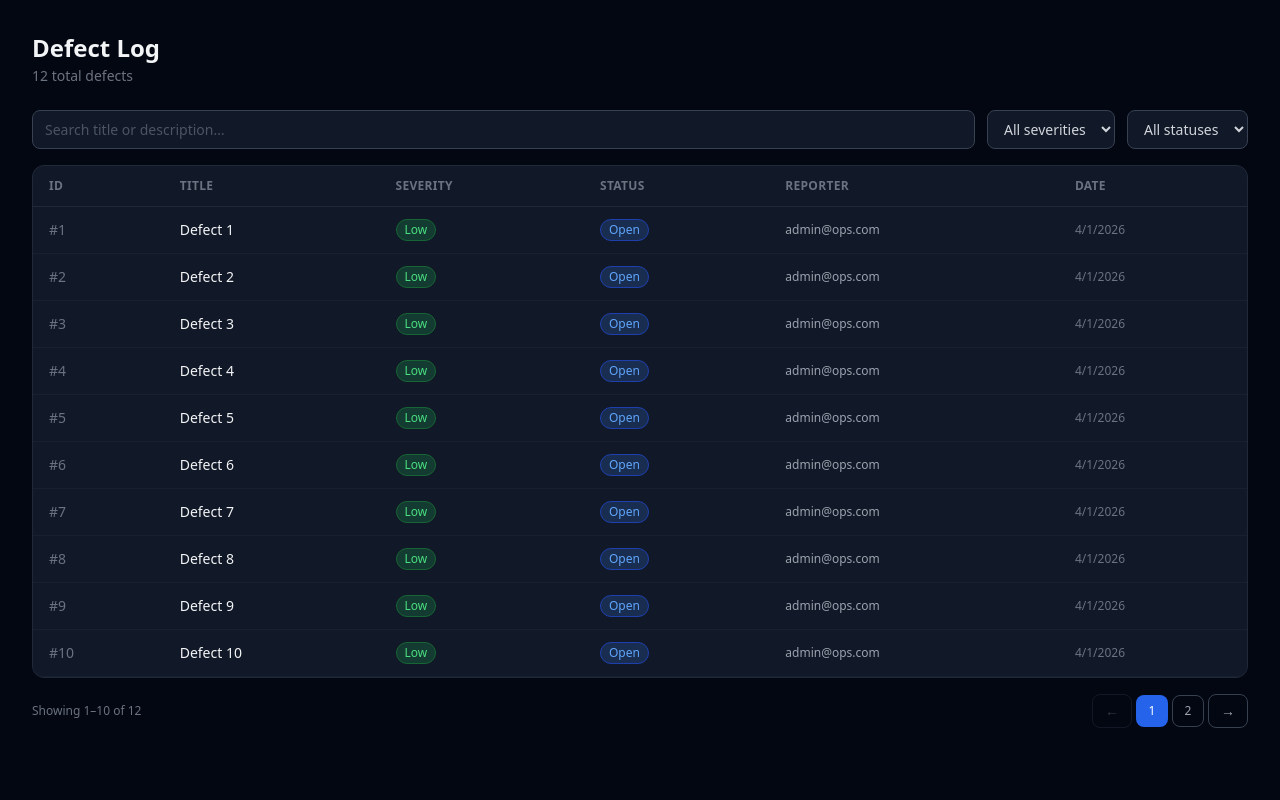
Test: DefectLog — pagination › resets to page 1 when a filter is applied
This screenshot has width=1280, height=800.
Expected: the text "Defect 1" is shown, [164,206,380,254]
Go to page 2 first
Click the button "→" at [1228, 711], box [1208,694,1248,728]
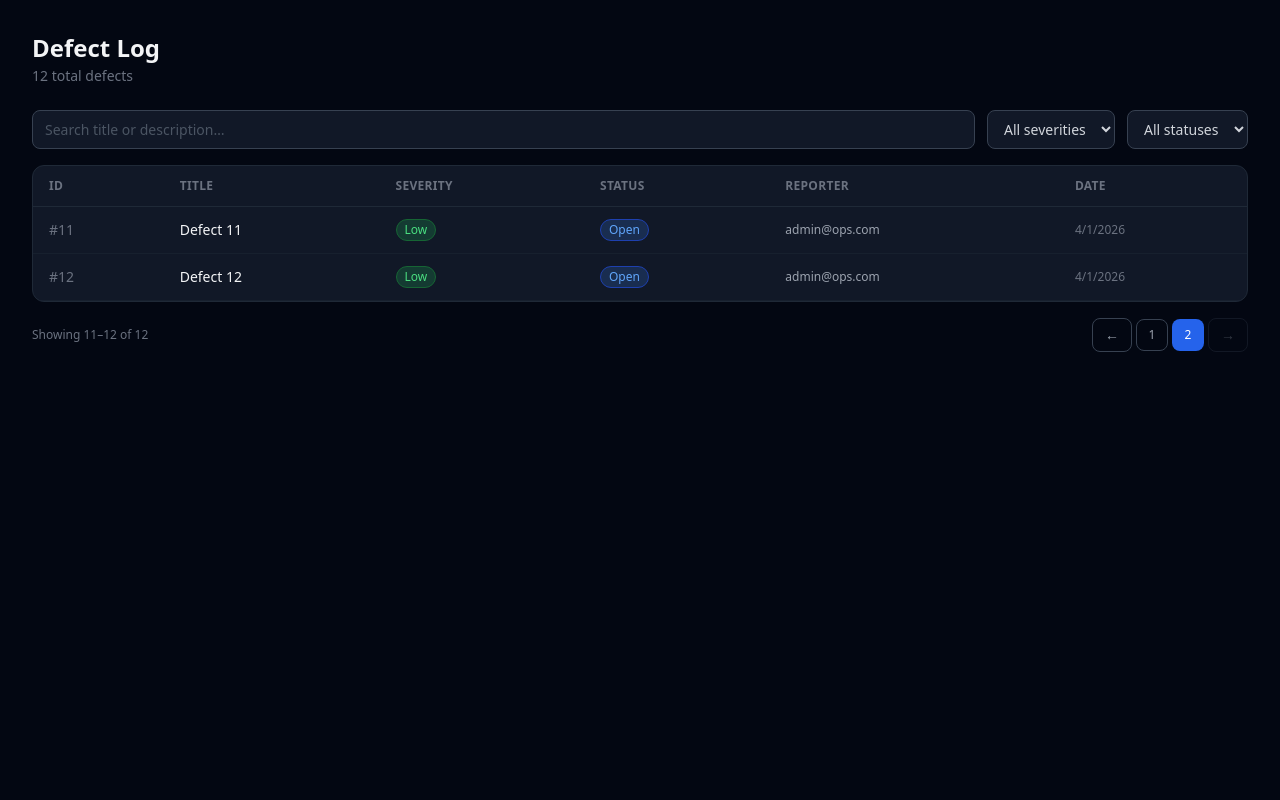
Now the text "Defect 11" is shown, box [164,206,380,254]
Search for 'Defect 5' — only matches defect #5, not 11 or 12
Type "Defect 5" into the field with placeholder "Search title or description…" at [504, 130], box [32,110,975,149]
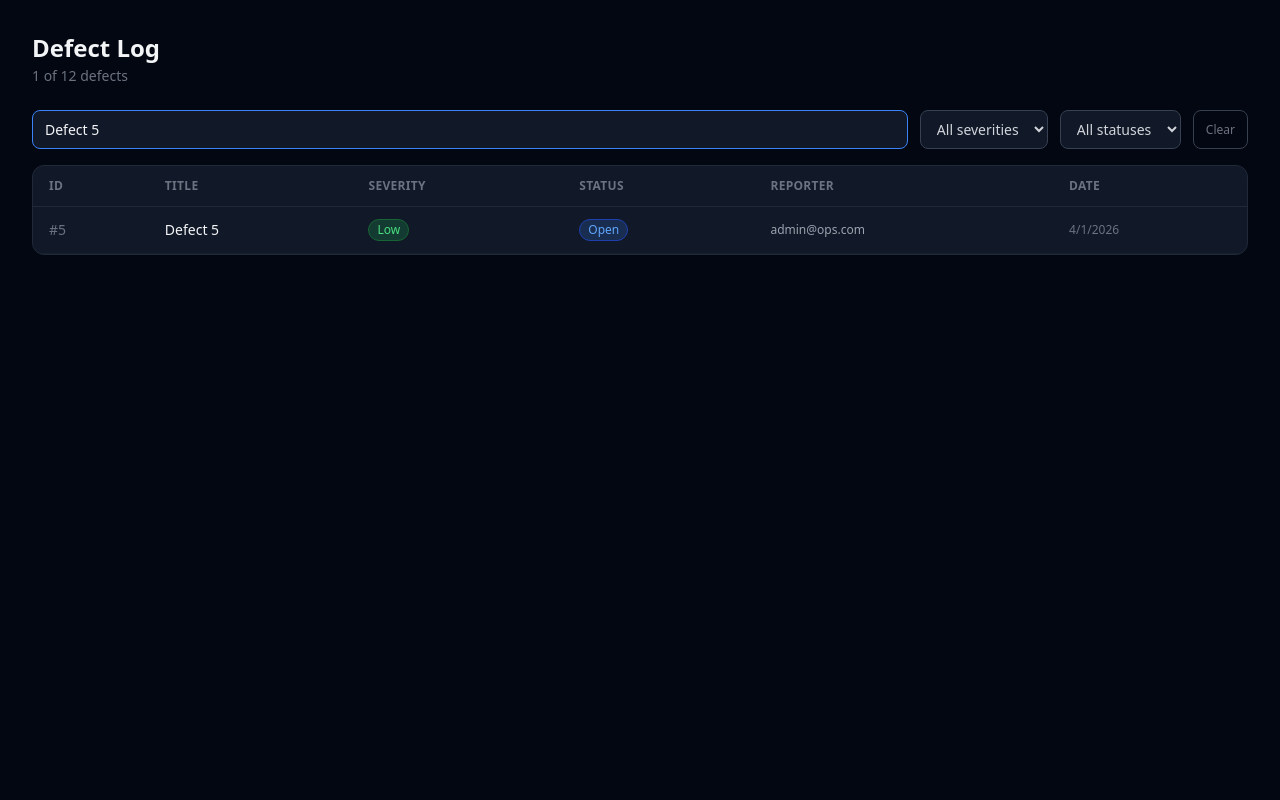
Now the text "Defect 5" is shown, box [149,206,352,254]
Now the text "Defect 11" is gone
